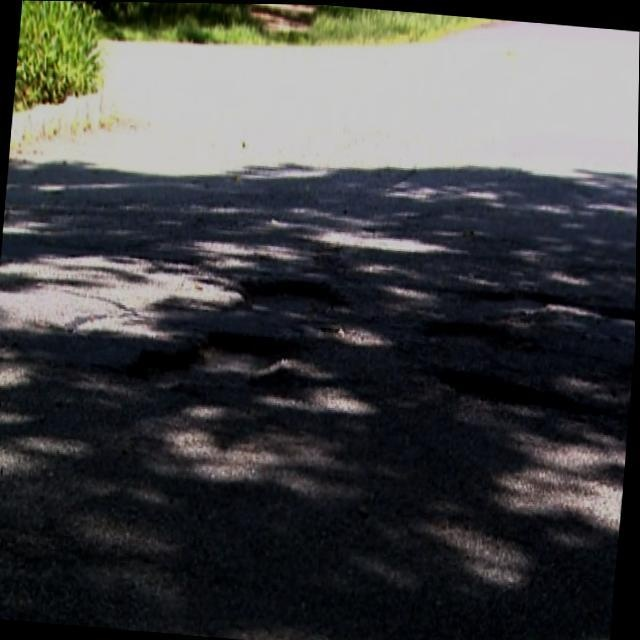pothole: (161, 427, 340, 483), (424, 518, 535, 594), (193, 335, 318, 379), (256, 381, 379, 416), (192, 238, 302, 265), (5, 436, 90, 457), (375, 281, 439, 303), (1, 351, 36, 391)
